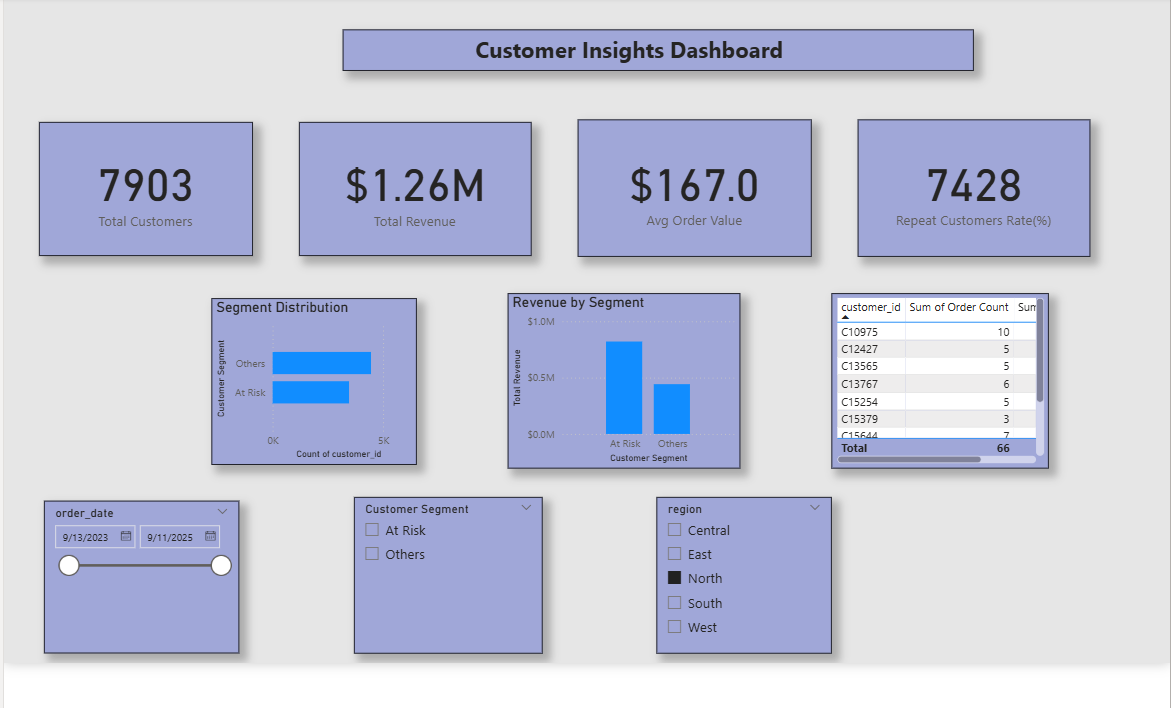

This screenshot's page, from the dashboard's own definition file:
{"tool":"powerbi","page":{"name":"Customer Insights ","canvas":[1400,800],"ordinal":1},"visuals":[{"type":"card","fields":{"Values":["KPI_Measure.Total Customers"]},"box":[42,149.7,256.6,160.6],"z":0},{"type":"card","fields":{"Values":["KPI_Measure.Total Revenue"]},"box":[354.2,149.7,279.2,160.6],"z":1000},{"type":"card","fields":{"Values":["KPI_Measure.Avg Order Value"]},"box":[688.9,147.5,280.7,165.1],"z":2000},{"type":"card","fields":{"Values":["KPI_Measure.Repeat Customer Rate"]},"box":[1025.1,147.5,279.2,165.1],"z":3000},{"type":"clusteredBarChart","title":"Segment Distribution","fields":{"Y":["CountNonNull(Customers.customer_id)"],"Category":["Customers.Customer Segment"]},"box":[249.1,361.2,246.1,199.6],"z":4000},{"type":"clusteredColumnChart","title":"Revenue by  Segment","fields":{"Y":["KPI_Measure.Total Revenue"],"Category":["Customers.Customer Segment"]},"box":[604.8,356,279.2,210.1],"z":5000},{"type":"tableEx","title":"Top 10 Customers by Revenue","fields":{"Values":["Customers.customer_id","Sum(Customers.Order Count)","Sum(Customers.Total Sales)"]},"box":[993.6,356,261.2,210.1],"z":6000},{"type":"slicer","fields":{"Values":["Ecommerce.order_date"]},"box":[48,604.8,234.1,183.1],"z":7000},{"type":"slicer","fields":{"Values":["Customers.Customer Segment"]},"box":[419.5,600.3,226.6,187.6],"z":8000},{"type":"slicer","fields":{"Values":["Ecommerce.region"]},"box":[783.5,600.3,210.1,187.6],"z":9000},{"type":"textbox","box":[282.2,13.5,822.5,46.5],"z":10000},{"type":"textbox","box":[324.2,79.5,700.9,36],"z":11000}]}

Visuals, with their boxes in screenshot pixels (x1, y1, x2, y2):
card - KPI_Measure.Total Customers: [41,120,252,253]
card - KPI_Measure.Total Revenue: [298,120,529,253]
card - KPI_Measure.Avg Order Value: [574,119,806,255]
card - KPI_Measure.Repeat Customer Rate: [852,119,1082,255]
"Segment Distribution" clusteredBarChart: [212,295,415,460]
"Revenue by  Segment" clusteredColumnChart: [505,291,735,464]
"Top 10 Customers by Revenue" tableEx: [826,291,1041,464]
slicer - Ecommerce.order_date: [46,496,239,647]
slicer - Customers.Customer Segment: [352,492,539,647]
slicer - Ecommerce.region: [652,492,826,647]
textbox: [239,8,917,46]
textbox: [274,63,852,92]
